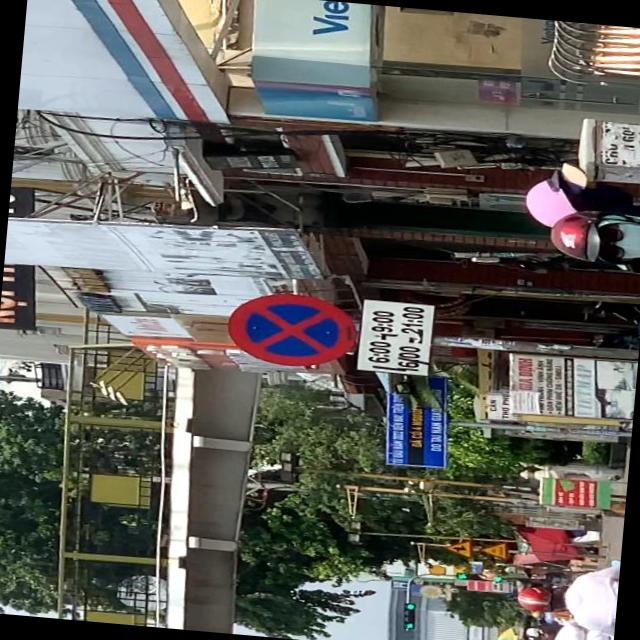P-130: (225, 288, 356, 369)
